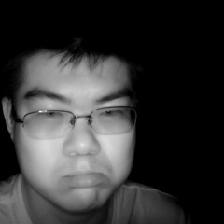sad: (7, 41, 147, 212)
